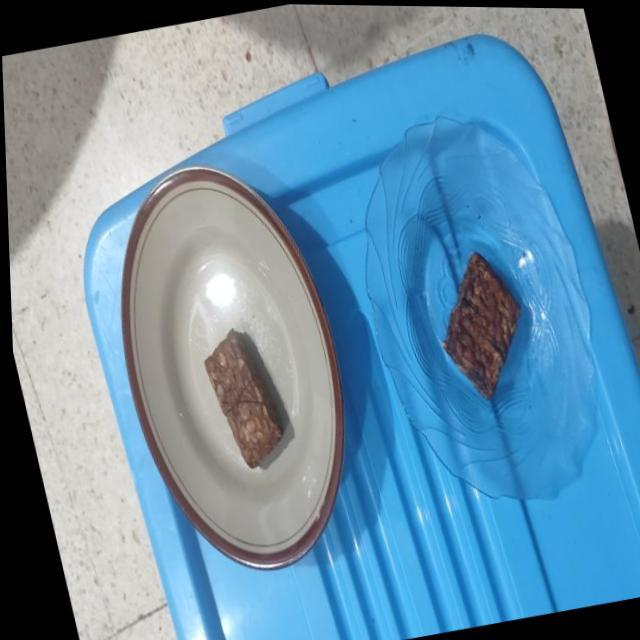tempe_goreng: (442, 252, 520, 400), (204, 329, 282, 468)
